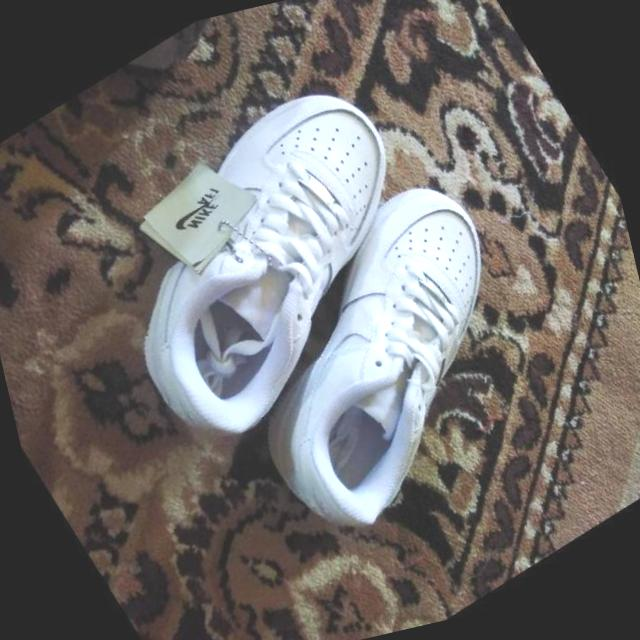nike_fake_airforce: (150, 128, 606, 577), (41, 46, 502, 478)
